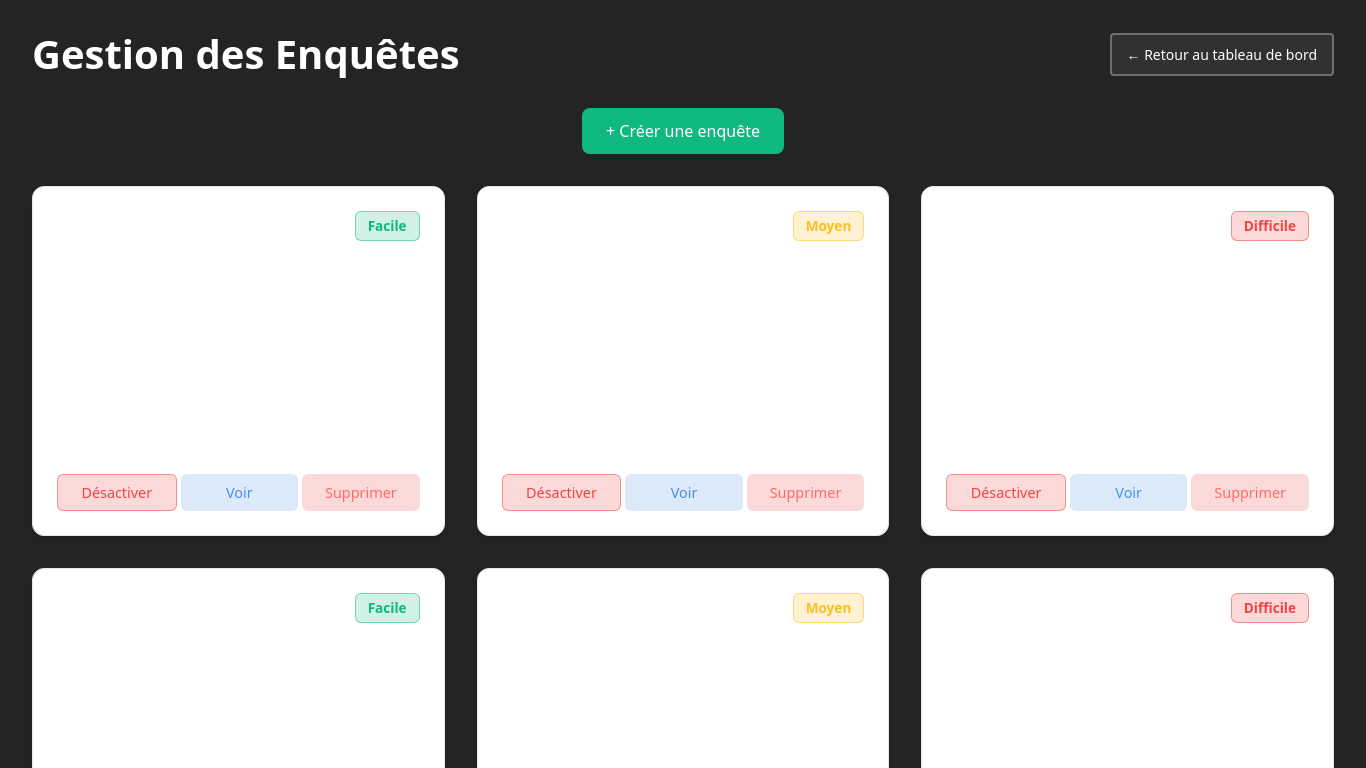
it: AdminInvestigationsPage › shows create form when create button is clicked
The width and height of the screenshot is (1366, 768).
Click the button "+ Créer une enquête" at (683, 131), box [582,108,784,154]
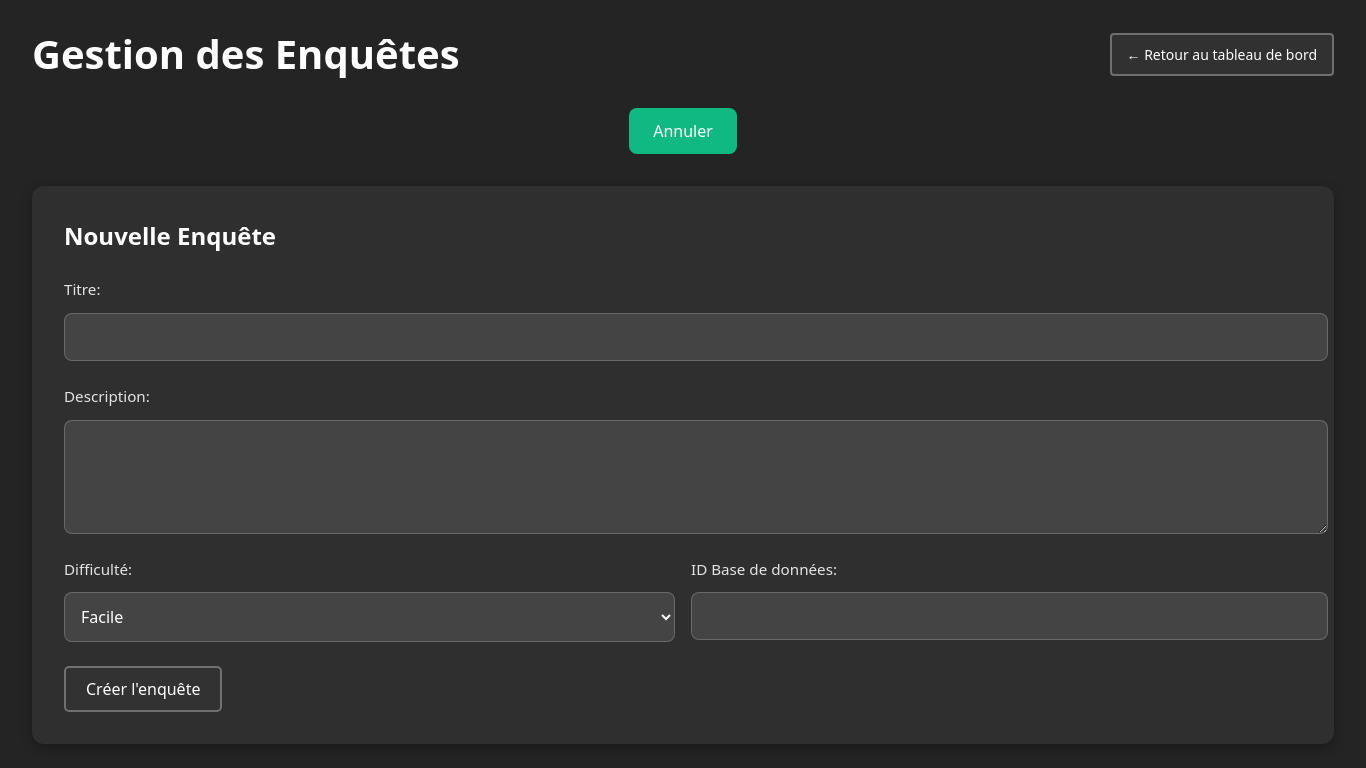
Expected: the heading "Nouvelle Enquête" is shown, [64,219,276,252]
Expected: the text "Titre:" is shown, [64,279,100,299]
Expected: the text "Description:" is shown, [64,386,150,406]
